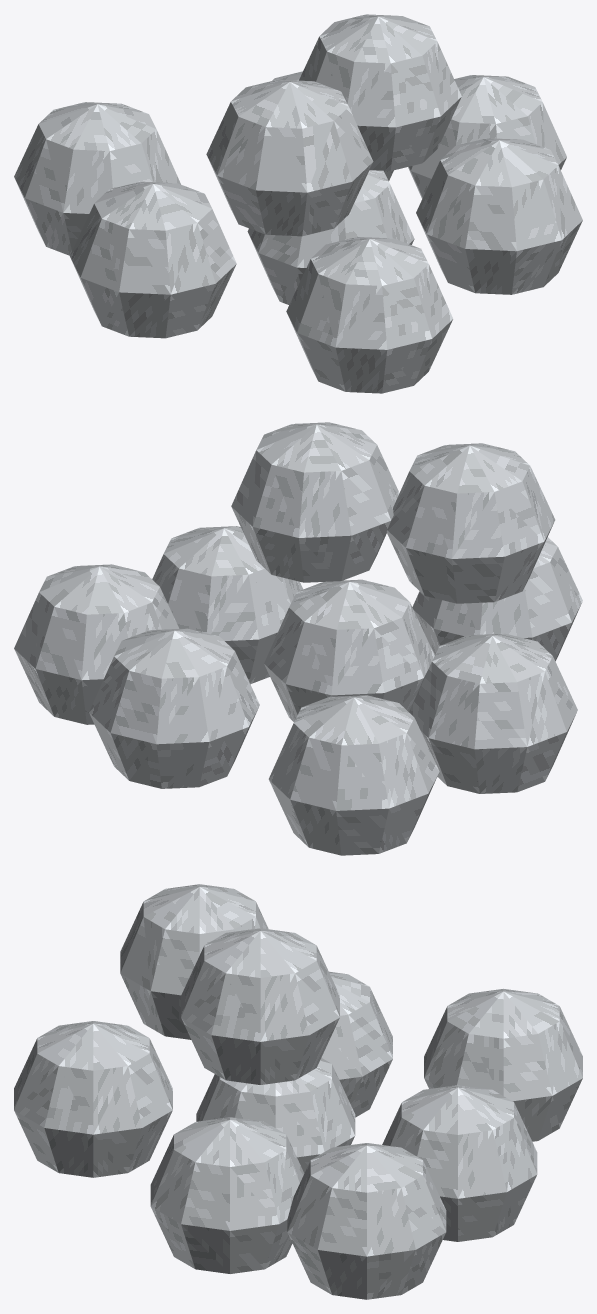
Rendered from bearing.glb.
The picture shows the model from 3 angles, top to bottom: view 1: azimuth 30°, elevation 25°; view 2: azimuth 150°, elevation 25°; view 3: azimuth 270°, elevation 25°; orthographic projection. The views are drawn at different scales.
Visible parts, largest first — view 1: block_steel ball (×8); view 2: block_steel ball (×9); view 3: block_steel ball (×9).
Boxes of the visible parts, x1,y1,x2,y2 form: block_steel ball (×8): (14, 14, 582, 393); block_steel ball (×9): (14, 422, 582, 855); block_steel ball (×9): (14, 884, 582, 1299).
Size of the model in its own units: 0.1184 by 0.0654 by 0.1168.
Materials: 1 (1 with a texture image).
